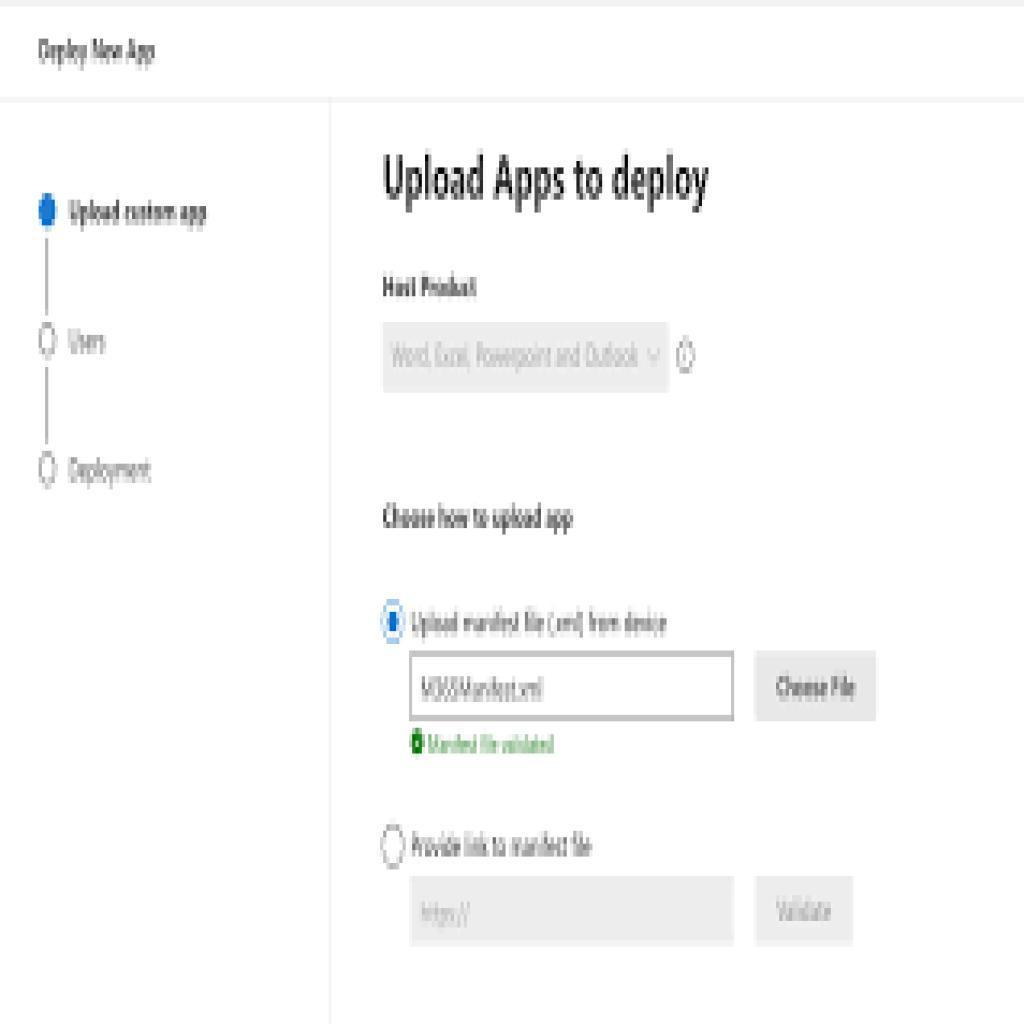button: (754, 650, 880, 721), (755, 877, 856, 948)
dropdown: (385, 323, 672, 393)
icon: (675, 334, 698, 377)
input: (409, 651, 737, 724), (412, 875, 736, 945)
radio: (382, 591, 409, 652), (378, 820, 406, 876)
